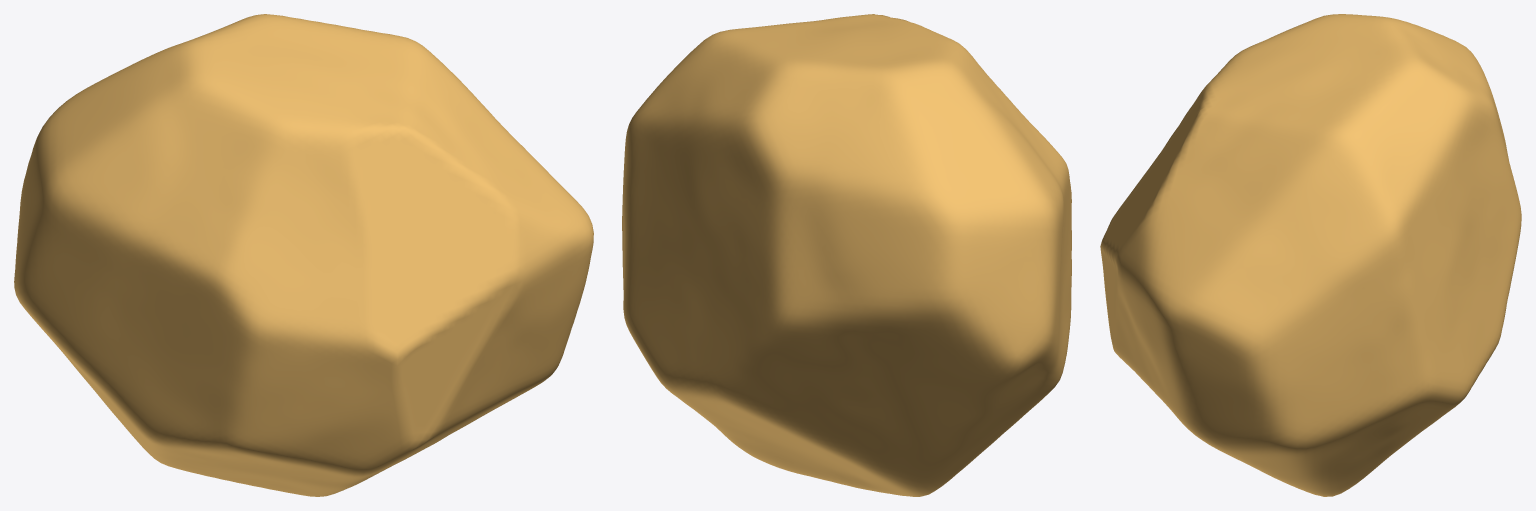
File: nugget-04.glb
The picture shows the model from 3 angles, left to right: view 1: azimuth 30°, elevation 25°; view 2: azimuth 150°, elevation 25°; view 3: azimuth 270°, elevation 25°; orthographic projection. The views are drawn at different scales.
Parts seen in each view (by area): view 1: nugget-04; view 2: nugget-04; view 3: nugget-04.
Part boxes in pixels (x1,y1,x2,y2): nugget-04: (14,14,593,496); nugget-04: (622,14,1071,496); nugget-04: (1100,14,1521,496).
Bounding box in the file's own units: 3.7 × 3.3 × 3.05.
